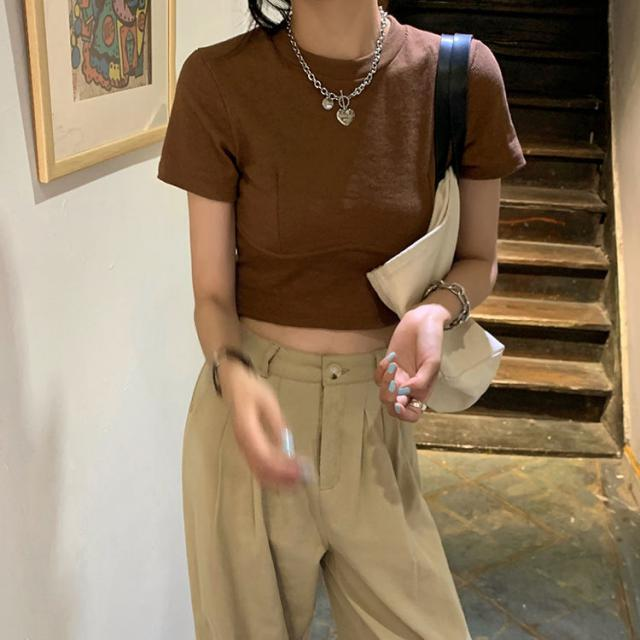Shirt: (156, 20, 527, 327)
